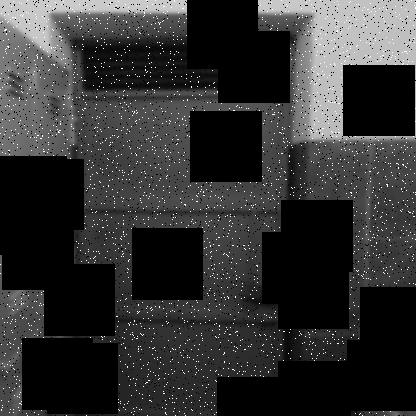Porte: (47, 12, 314, 415)
